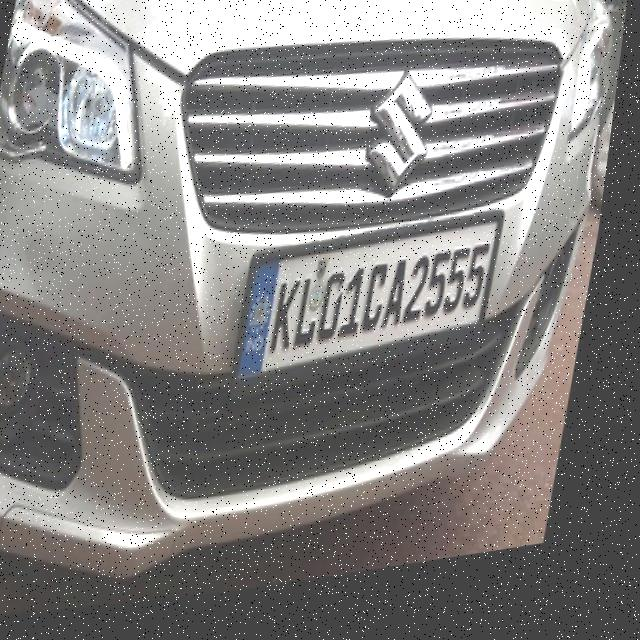license_plate: (241, 228, 507, 386)
